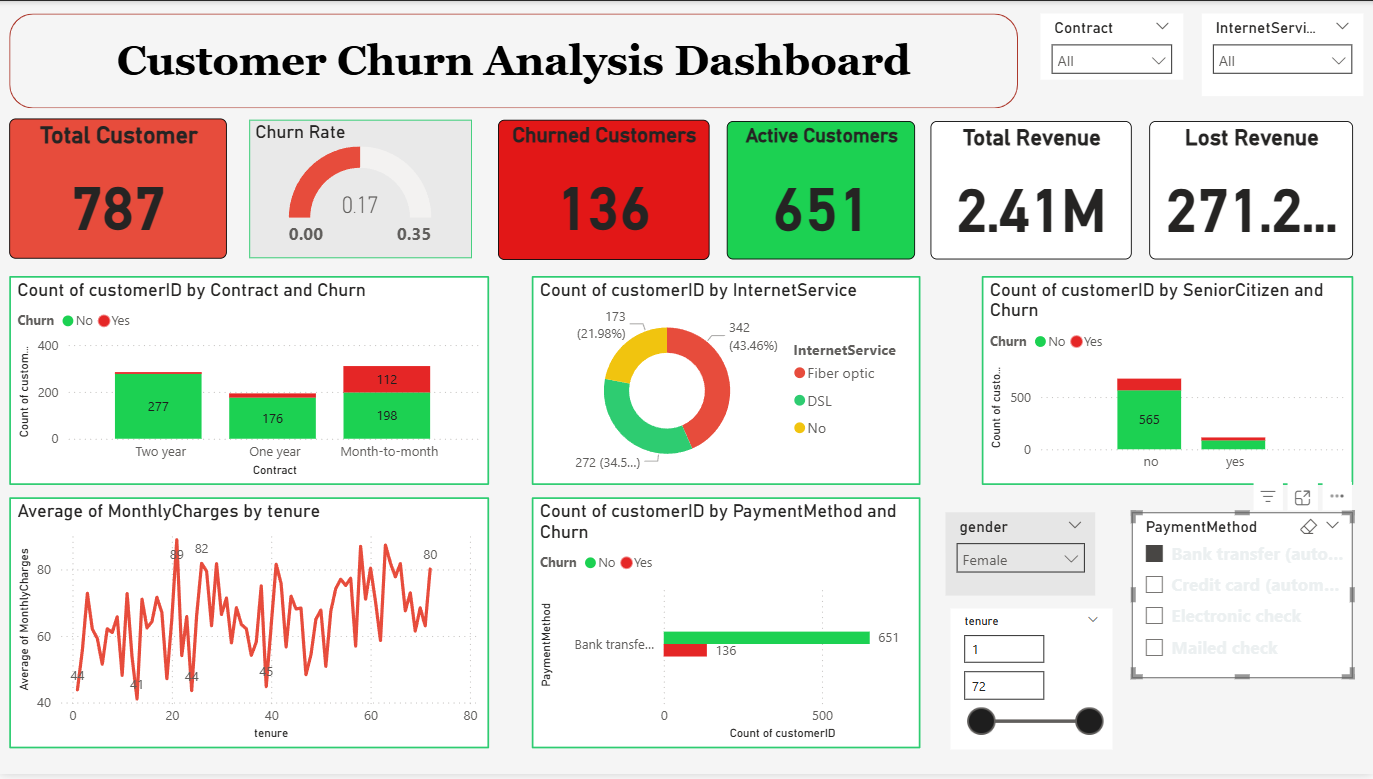

This screenshot's page, from the dashboard's own definition file:
{"tool":"powerbi","page":{"name":"Page 1","canvas":[1280,720],"ordinal":0},"visuals":[{"type":"card","title":"Total Customer ","fields":{"Values":["WA_Fn-UseC_-Telco-Customer-Churn (1).Total Customers"]},"box":[10.5,109.3,202.3,130.2],"z":0},{"type":"card","title":"Churned Customers","fields":{"Values":["WA_Fn-UseC_-Telco-Customer-Churn (1).Churned Customers"]},"box":[465.1,110.5,196.5,130.2],"z":1000},{"type":"card","title":"Active Customers","fields":{"Values":["WA_Fn-UseC_-Telco-Customer-Churn (1).Active Customers"]},"box":[677.9,111.6,175.6,129.1],"z":2000},{"type":"gauge","fields":{"Y":["WA_Fn-UseC_-Telco-Customer-Churn (1).Churn Rate"]},"box":[233.7,110.5,207,129.1],"z":3000},{"type":"card","title":"Total Revenue","fields":{"Values":["WA_Fn-UseC_-Telco-Customer-Churn (1).Total Revenue"]},"box":[867.4,111.6,187.2,129.1],"z":4000},{"type":"card","title":"Lost Revenue","fields":{"Values":["WA_Fn-UseC_-Telco-Customer-Churn (1).Lost Revenue"]},"box":[1070.9,111.6,189.5,129.1],"z":5000},{"type":"columnChart","fields":{"Category":["WA_Fn-UseC_-Telco-Customer-Churn (1).Contract"],"Series":["WA_Fn-UseC_-Telco-Customer-Churn (1).Churn"],"Y":["CountNonNull(WA_Fn-UseC_-Telco-Customer-Churn (1).customerID)"]},"box":[10.5,255.8,446.5,194.2],"z":6000},{"type":"donutChart","fields":{"Category":["WA_Fn-UseC_-Telco-Customer-Churn (1).InternetService"],"Y":["CountNonNull(WA_Fn-UseC_-Telco-Customer-Churn (1).customerID)"]},"box":[496.5,255.8,361.6,194.2],"z":7000},{"type":"lineChart","fields":{"Category":["WA_Fn-UseC_-Telco-Customer-Churn (1).tenure"],"Y":["Avg(WA_Fn-UseC_-Telco-Customer-Churn (1).MonthlyCharges)"]},"box":[10.5,461.6,446.5,233.7],"z":8000},{"type":"clusteredBarChart","fields":{"Category":["WA_Fn-UseC_-Telco-Customer-Churn (1).PaymentMethod"],"Y":["CountNonNull(WA_Fn-UseC_-Telco-Customer-Churn (1).customerID)"],"Series":["WA_Fn-UseC_-Telco-Customer-Churn (1).Churn"]},"box":[496.5,461.6,361.6,233.7],"z":9000},{"type":"columnChart","fields":{"Category":["WA_Fn-UseC_-Telco-Customer-Churn (1).SeniorCitizen"],"Y":["CountNonNull(WA_Fn-UseC_-Telco-Customer-Churn (1).customerID)"],"Series":["WA_Fn-UseC_-Telco-Customer-Churn (1).Churn"]},"box":[915.1,255.8,345.3,194.2],"z":10000},{"type":"slicer","fields":{"Values":["WA_Fn-UseC_-Telco-Customer-Churn (1).gender"]},"box":[881.4,475.6,139.5,77.9],"z":11000},{"type":"slicer","fields":{"Values":["WA_Fn-UseC_-Telco-Customer-Churn (1).Contract"]},"box":[969.8,11.6,132.6,61.6],"z":12000},{"type":"slicer","fields":{"Values":["WA_Fn-UseC_-Telco-Customer-Churn (1).InternetService"]},"box":[1119.8,11.6,150,76.7],"z":13000},{"type":"shape","box":[10.5,11.6,938.4,88.4],"z":14000},{"type":"slicer","fields":{"Values":["WA_Fn-UseC_-Telco-Customer-Churn (1).PaymentMethod"]},"box":[1054.7,475.6,205.8,154.7],"z":15000},{"type":"slicer","fields":{"Values":["WA_Fn-UseC_-Telco-Customer-Churn (1).tenure"]},"box":[886,565.1,150,130.2],"z":16000}]}

Visuals, with their boxes in screenshot pixels (x1, y1, x2, y2), scaled from the page's 1280x720 canvas onto the 1373x779 screenshot:
"Total Customer " card: l=11, t=118, r=228, b=259
"Churned Customers" card: l=499, t=120, r=710, b=260
"Active Customers" card: l=727, t=121, r=916, b=260
gauge - WA_Fn-UseC_-Telco-Customer-Churn (1).Churn Rate: l=251, t=120, r=473, b=259
"Total Revenue" card: l=930, t=121, r=1131, b=260
"Lost Revenue" card: l=1149, t=121, r=1352, b=260
columnChart - WA_Fn-UseC_-Telco-Customer-Churn (1).Contract x WA_Fn-UseC_-Telco-Customer-Churn (1).Churn: l=11, t=277, r=490, b=487
donutChart - WA_Fn-UseC_-Telco-Customer-Churn (1).InternetService x CountNonNull(WA_Fn-UseC_-Telco-Customer-Churn (1).customerID): l=533, t=277, r=920, b=487
lineChart - WA_Fn-UseC_-Telco-Customer-Churn (1).tenure x Avg(WA_Fn-UseC_-Telco-Customer-Churn (1).MonthlyCharges): l=11, t=499, r=490, b=752
clusteredBarChart - WA_Fn-UseC_-Telco-Customer-Churn (1).PaymentMethod x CountNonNull(WA_Fn-UseC_-Telco-Customer-Churn (1).customerID): l=533, t=499, r=920, b=752
columnChart - WA_Fn-UseC_-Telco-Customer-Churn (1).SeniorCitizen x CountNonNull(WA_Fn-UseC_-Telco-Customer-Churn (1).customerID): l=982, t=277, r=1352, b=487
slicer - WA_Fn-UseC_-Telco-Customer-Churn (1).gender: l=945, t=515, r=1095, b=599
slicer - WA_Fn-UseC_-Telco-Customer-Churn (1).Contract: l=1040, t=13, r=1182, b=79
slicer - WA_Fn-UseC_-Telco-Customer-Churn (1).InternetService: l=1201, t=13, r=1362, b=96
shape: l=11, t=13, r=1018, b=108
slicer - WA_Fn-UseC_-Telco-Customer-Churn (1).PaymentMethod: l=1131, t=515, r=1352, b=682
slicer - WA_Fn-UseC_-Telco-Customer-Churn (1).tenure: l=950, t=611, r=1111, b=752
